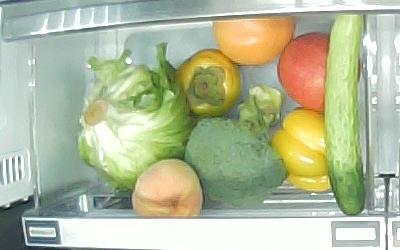apple: (278, 32, 361, 113)
broccoli: (185, 84, 289, 205)
cucumber: (325, 15, 366, 216)
grapefruit: (213, 17, 295, 65)
lettuce: (78, 65, 195, 190)
paprika: (273, 108, 332, 192)
peach: (131, 159, 203, 219)
persimmon: (177, 49, 241, 117)
